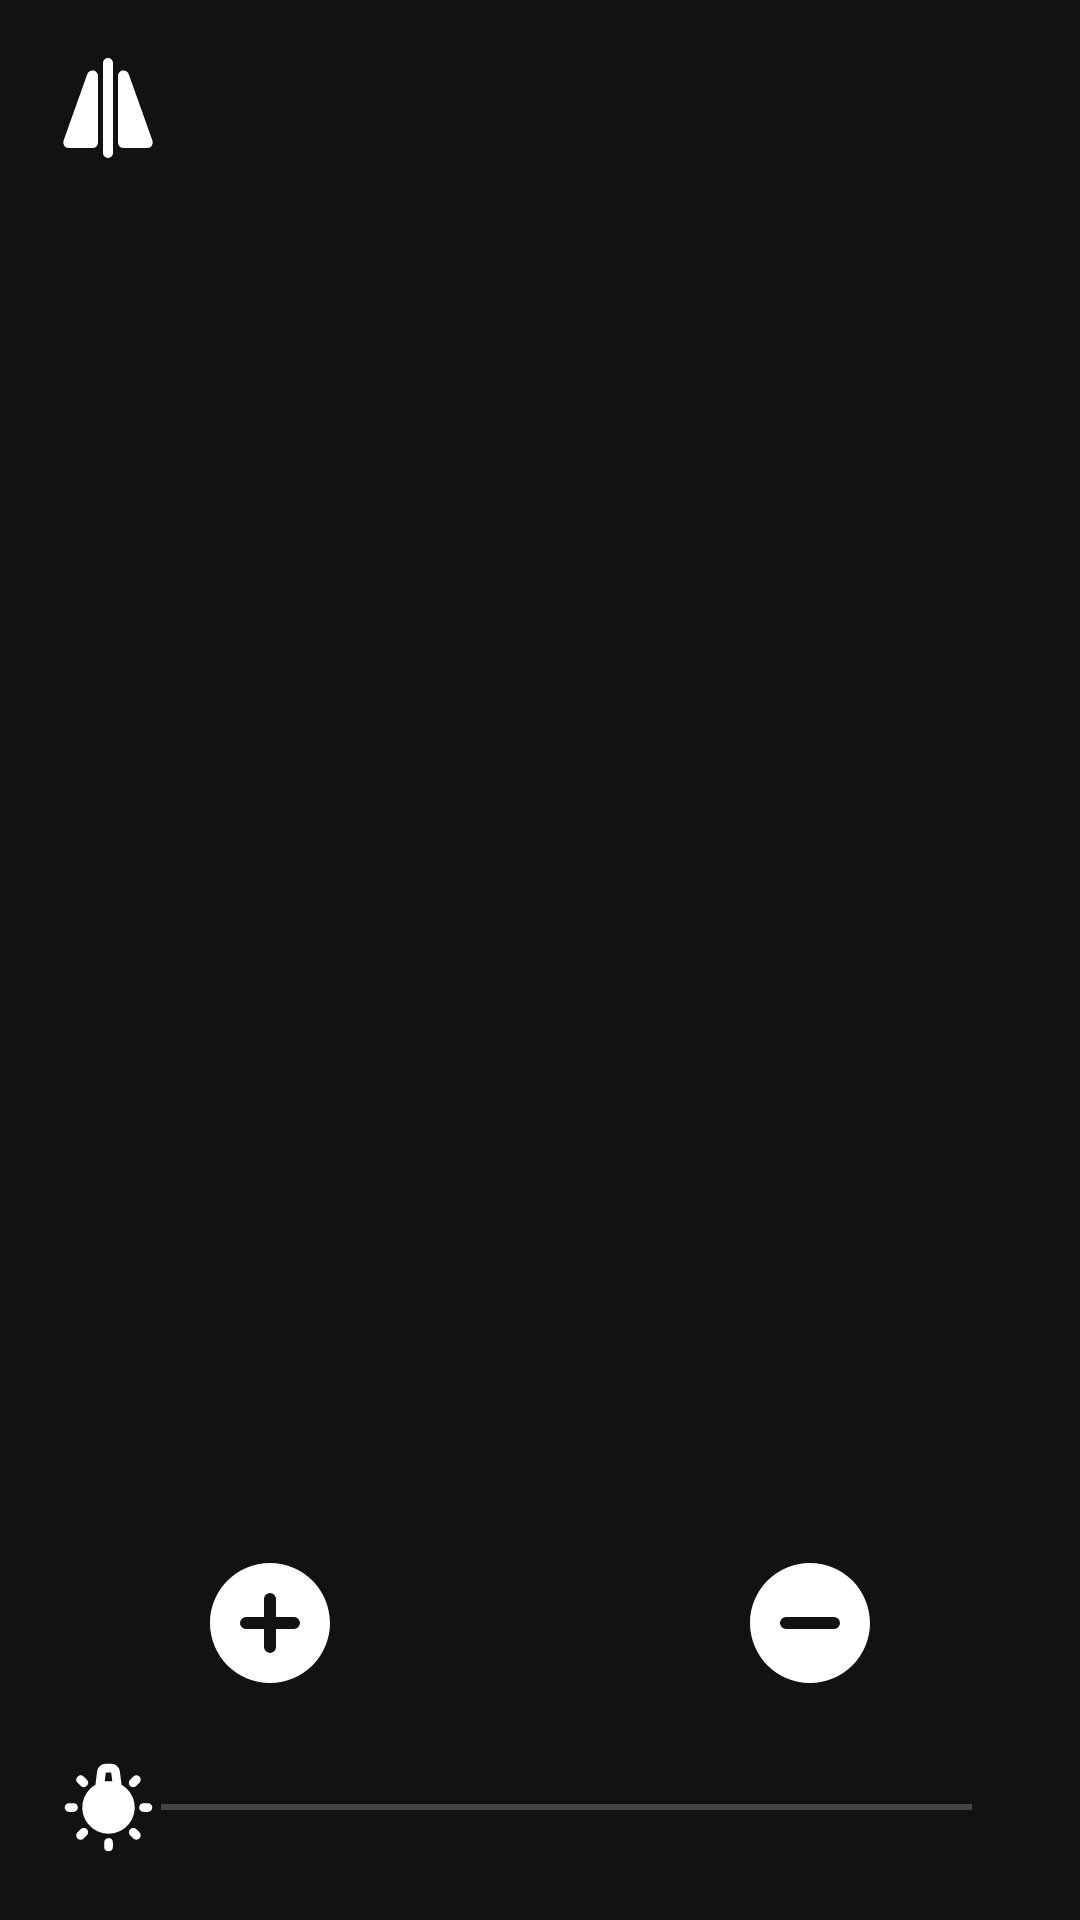

Icon click points for this 1080×1920 phone screenshot, format point (x, y):
flip: point (108, 108)
minus: point (810, 1623)
plus: point (270, 1623)
